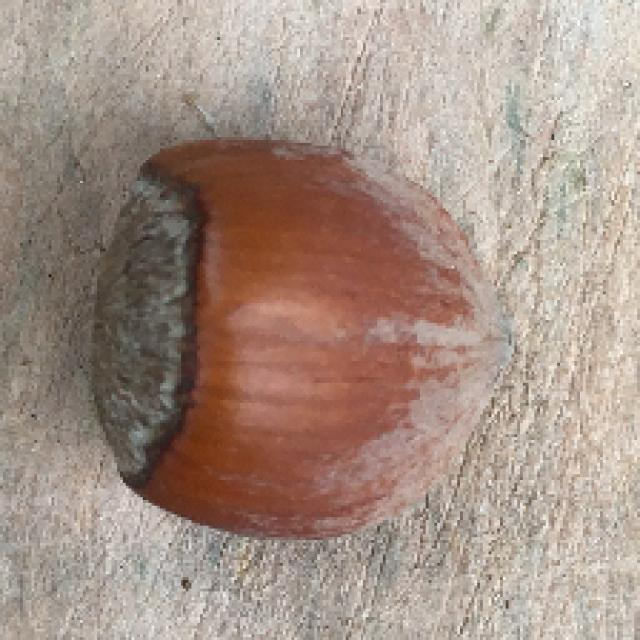qualityHazelnut: (75, 115, 512, 566)
